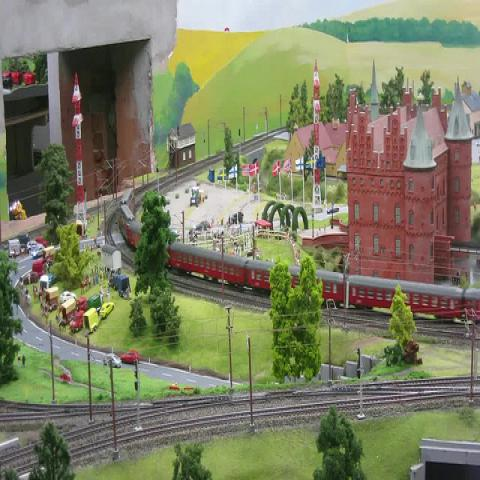car: (119, 348, 142, 364), (70, 310, 84, 333), (99, 302, 115, 319), (104, 353, 122, 368), (59, 290, 77, 303), (31, 244, 45, 257), (196, 220, 210, 230), (60, 372, 70, 382), (328, 206, 340, 214), (191, 197, 198, 207)
